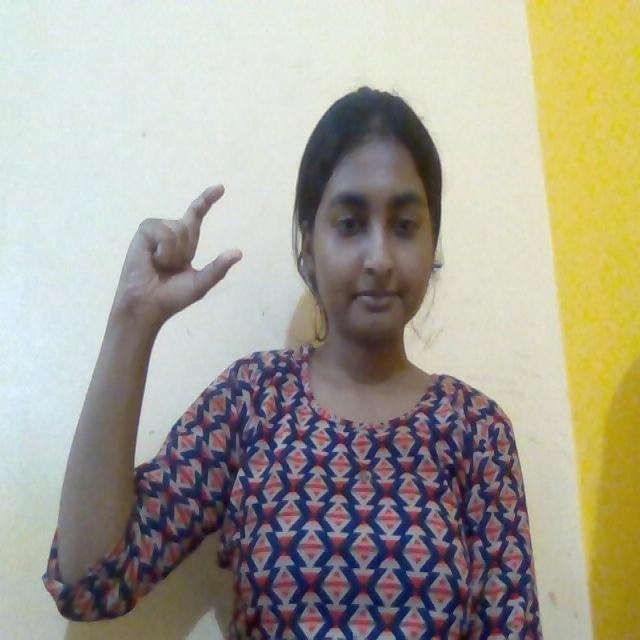No: (110, 166, 248, 337)
